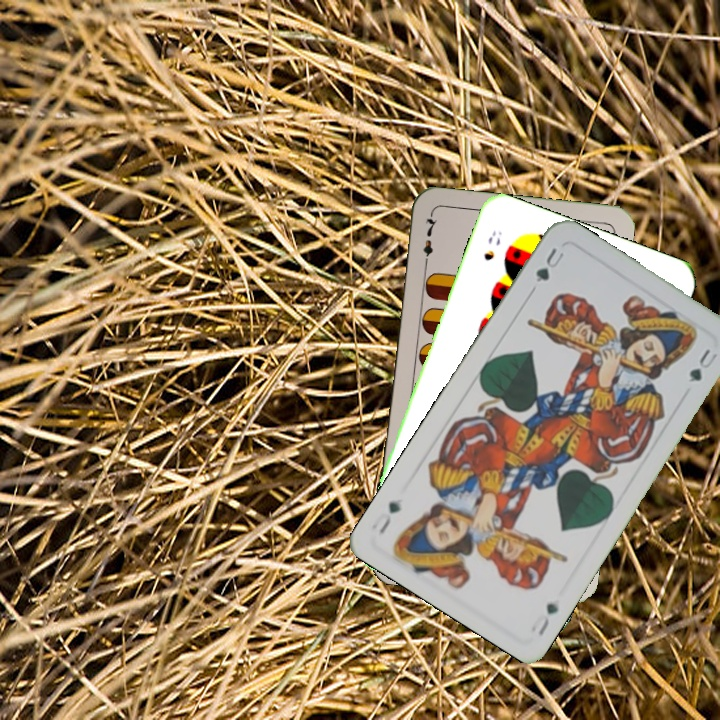E7: (419, 211, 440, 270)
GU: (531, 243, 568, 285), (534, 598, 561, 639)
S8: (479, 227, 505, 263)
